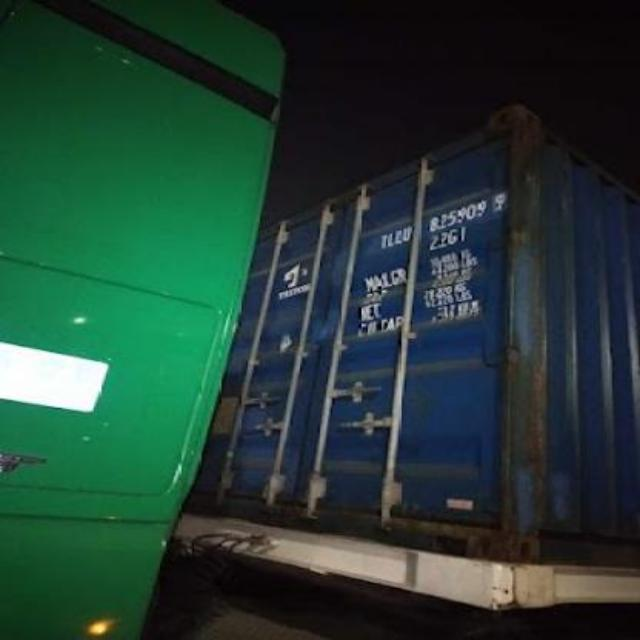0: (466, 194, 478, 222)
2: (438, 207, 446, 230)
5: (448, 197, 458, 230)
8: (426, 210, 439, 232)
9: (492, 188, 506, 215), (476, 192, 488, 220), (456, 194, 464, 223)
L: (384, 226, 394, 248), (394, 223, 402, 249)
T: (374, 227, 388, 250)
U: (402, 220, 412, 244)
